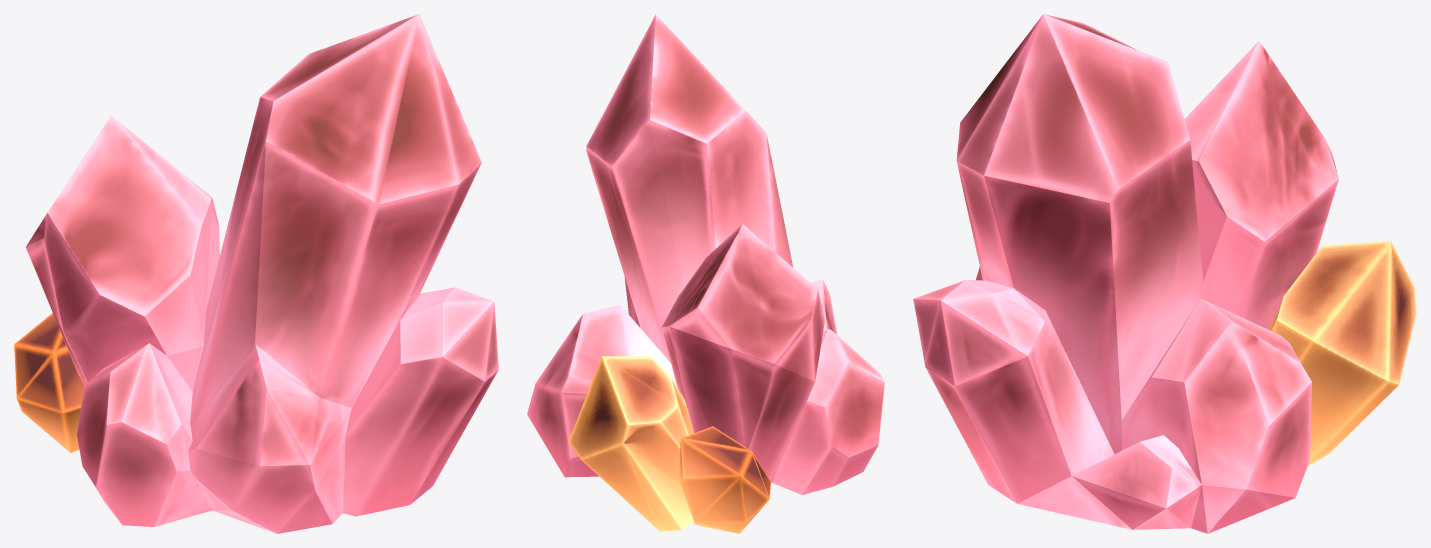
Rendered from crystal_chunk_001.fbx.
3 views of the same model, side by side, from view 1: azimuth 30°, elevation 25°; view 2: azimuth 150°, elevation 25°; view 3: azimuth 270°, elevation 25° (orthographic). The views are drawn at different scales.
Visible parts, largest first — view 1: crystal_chunk.001; view 2: crystal_chunk.001; view 3: crystal_chunk.001.
Part boxes in pixels (left/top/right/bottom): crystal_chunk.001: left=14, top=14, right=498, bottom=533; crystal_chunk.001: left=527, top=14, right=884, bottom=533; crystal_chunk.001: left=913, top=14, right=1416, bottom=533.
Bounding box in the file's own units: 13.05 × 15.91 × 14.14.
